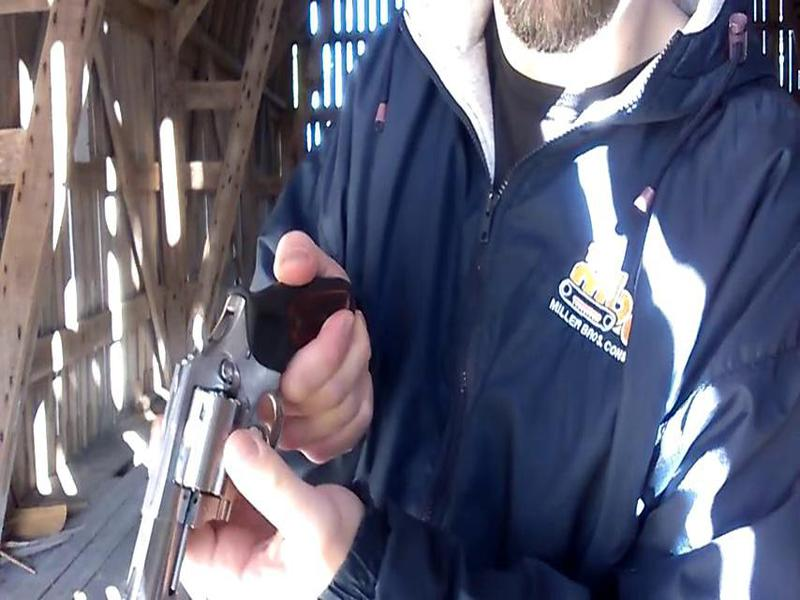Revolver: (117, 274, 289, 598)
